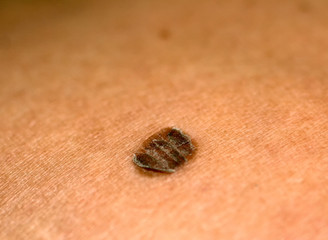melanoma: (118, 121, 208, 177)
